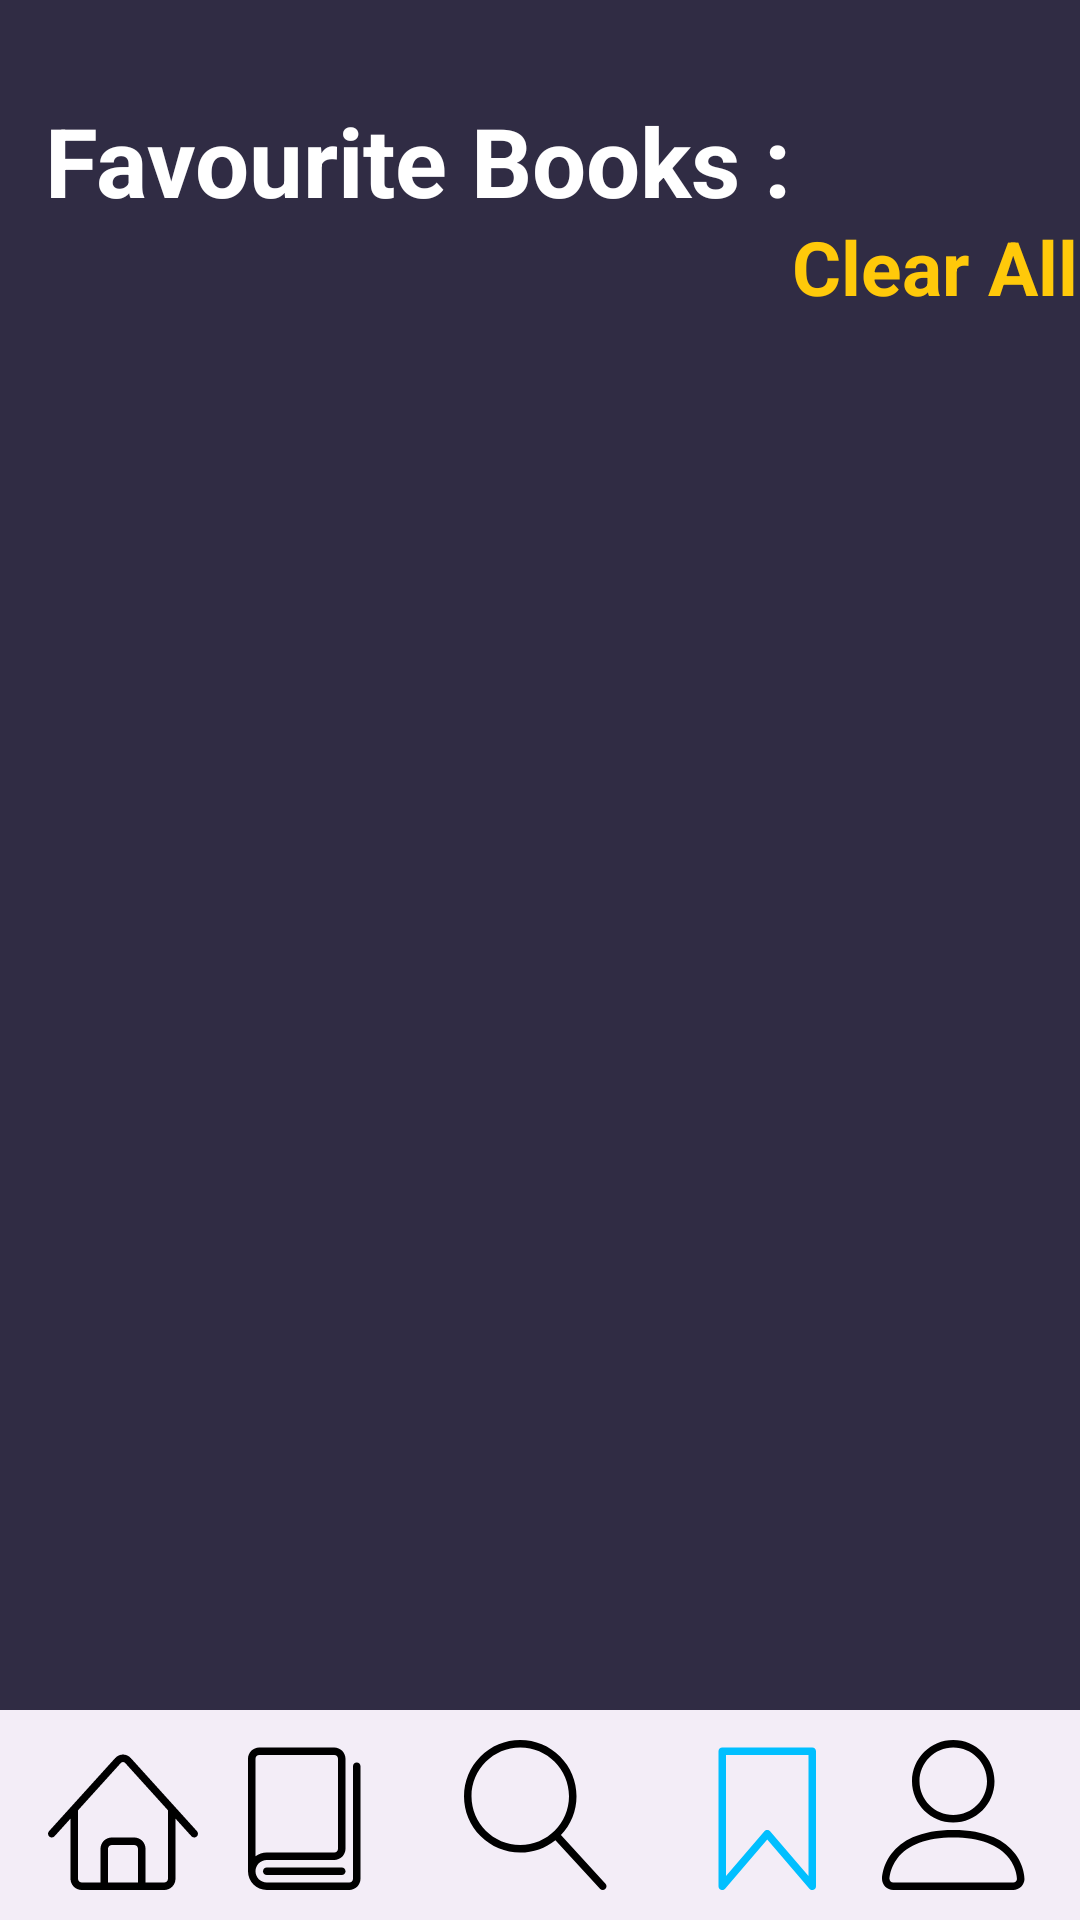

Named icons in this screenshot (1080 x 1920) and their bounding boxes, (x1, y1, x2, y2):
books: (248, 1747, 361, 1890)
home: (48, 1754, 198, 1890)
mag: (464, 1740, 607, 1890)
user: (882, 1740, 1025, 1890)
